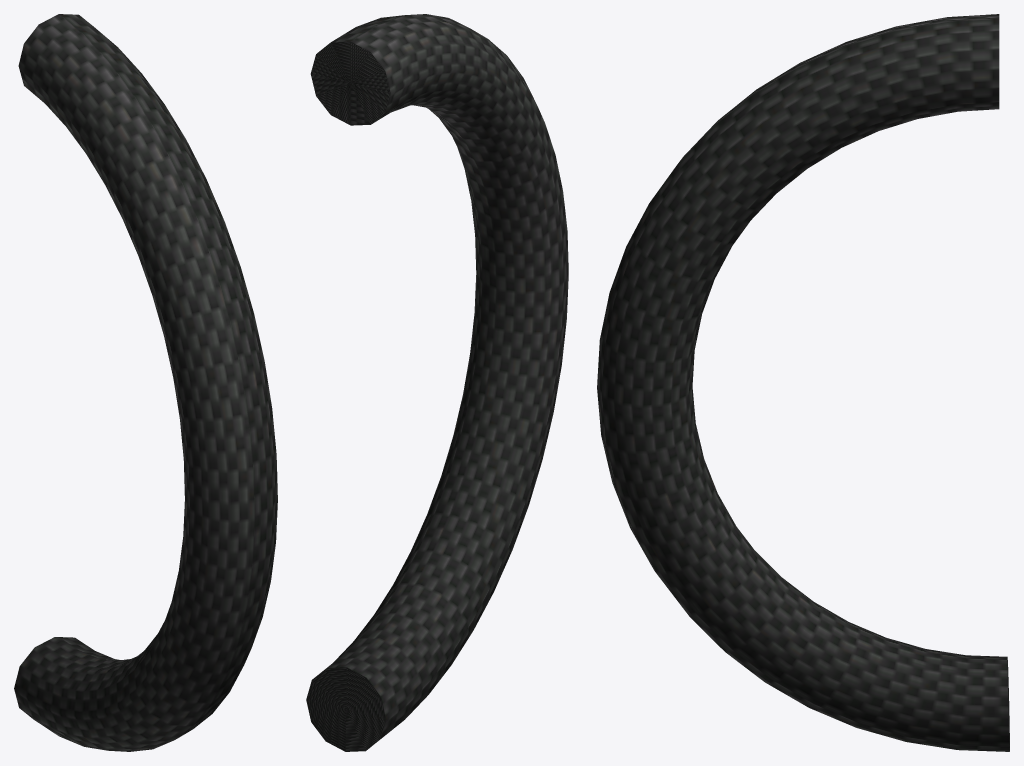
File: CubeBaseFrontColumnN4.fbx
3 renders of one model, left to right at view 1: azimuth 30°, elevation 25°; view 2: azimuth 150°, elevation 25°; view 3: azimuth 270°, elevation 25°, orthographic. The views are drawn at different scales.
Visible parts, largest first — view 1: Torus04; view 2: Torus04; view 3: Torus04.
Boxes of the visible parts, x1,y1,x2,y2 form: Torus04: (14,14,277,751); Torus04: (306,14,568,751); Torus04: (597,14,1009,751).
Size of the model in its own units: 0.172 by 1.45 by 0.7432.
Materials: 1 (1 with a texture image).
